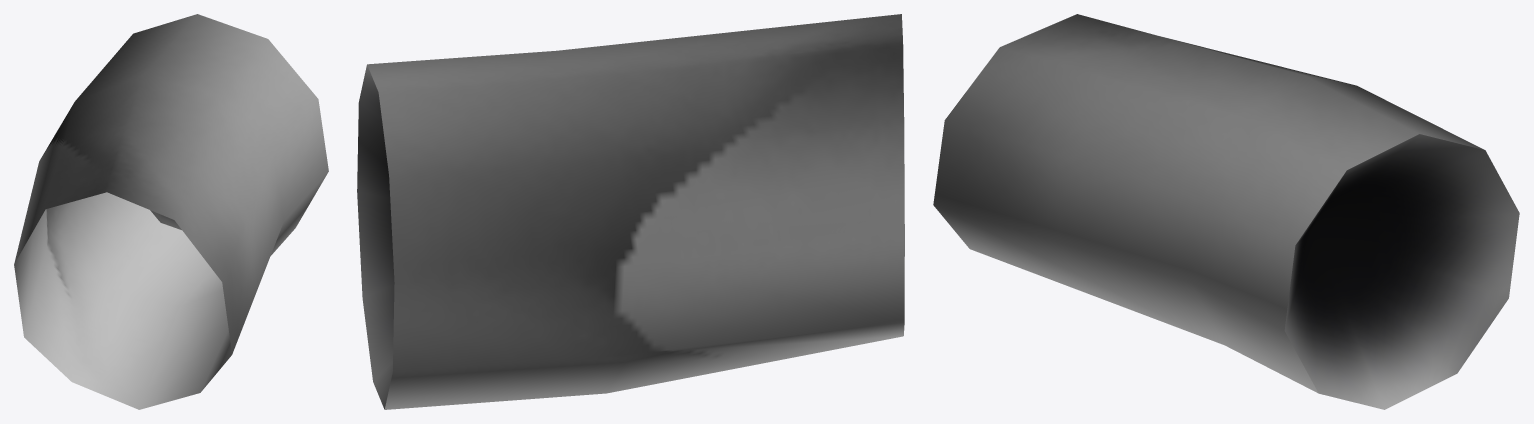
Rendered from Olschool_1_Sidepanel_3_L.fbx.
The picture shows the model from 3 angles, left to right: view 1: azimuth 30°, elevation 25°; view 2: azimuth 150°, elevation 25°; view 3: azimuth 270°, elevation 25°; orthographic projection. The views are drawn at different scales.
Visible parts, largest first — view 1: Olschool_1_Sidepanel_3_L; view 2: Olschool_1_Sidepanel_3_L; view 3: Olschool_1_Sidepanel_3_L.
Boxes of the visible parts, x1,y1,x2,y2 form: Olschool_1_Sidepanel_3_L: (14, 14, 328, 409); Olschool_1_Sidepanel_3_L: (357, 14, 904, 409); Olschool_1_Sidepanel_3_L: (933, 14, 1519, 409).
Bounding box in the file's own units: 88 × 53.43 × 107.
